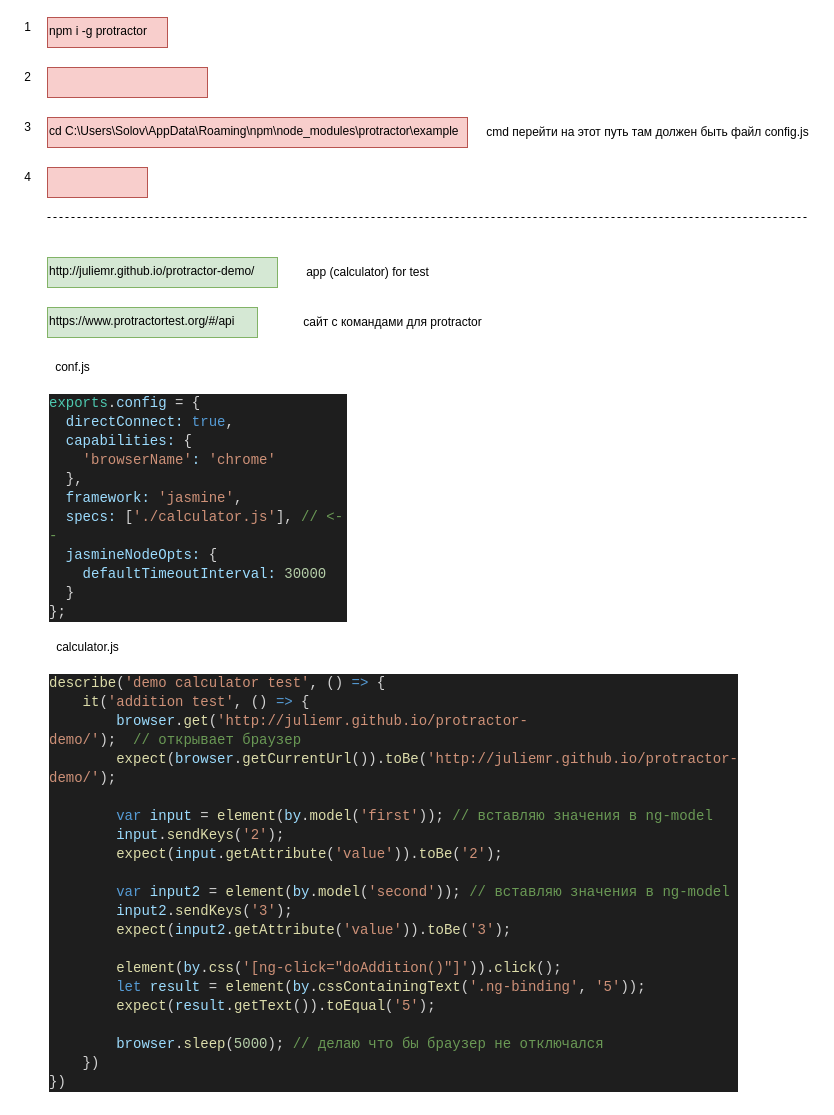
Image size: 834x1115. Some labels were removed from this diagram. Here are the shapes that lost their labels. From the top down, the centre of each, then its label:
the point at 127,82: webdriver-manager update
the point at 97,182: protractor conf.js
